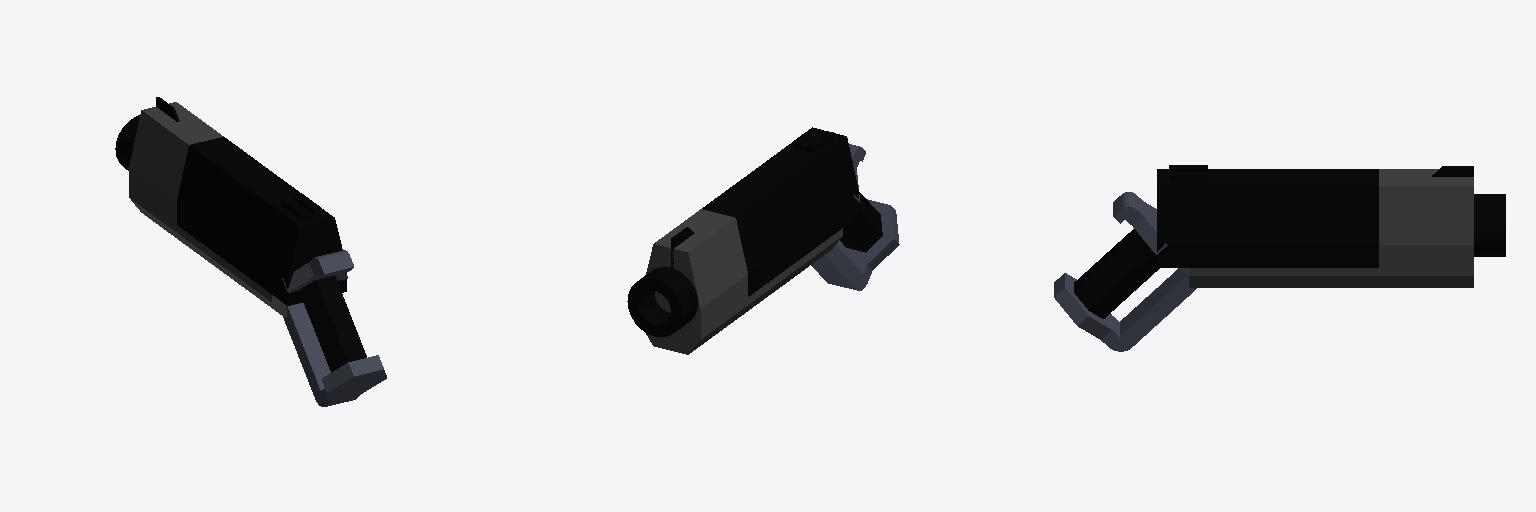
Rendered from pistol.obj.
The picture shows the model from 3 angles: view 1: azimuth 30°, elevation 25°; view 2: azimuth 150°, elevation 25°; view 3: azimuth 270°, elevation 25°; orthographic projection.
Size of the model in its own units: 0.22 by 0.6144 by 1.42.